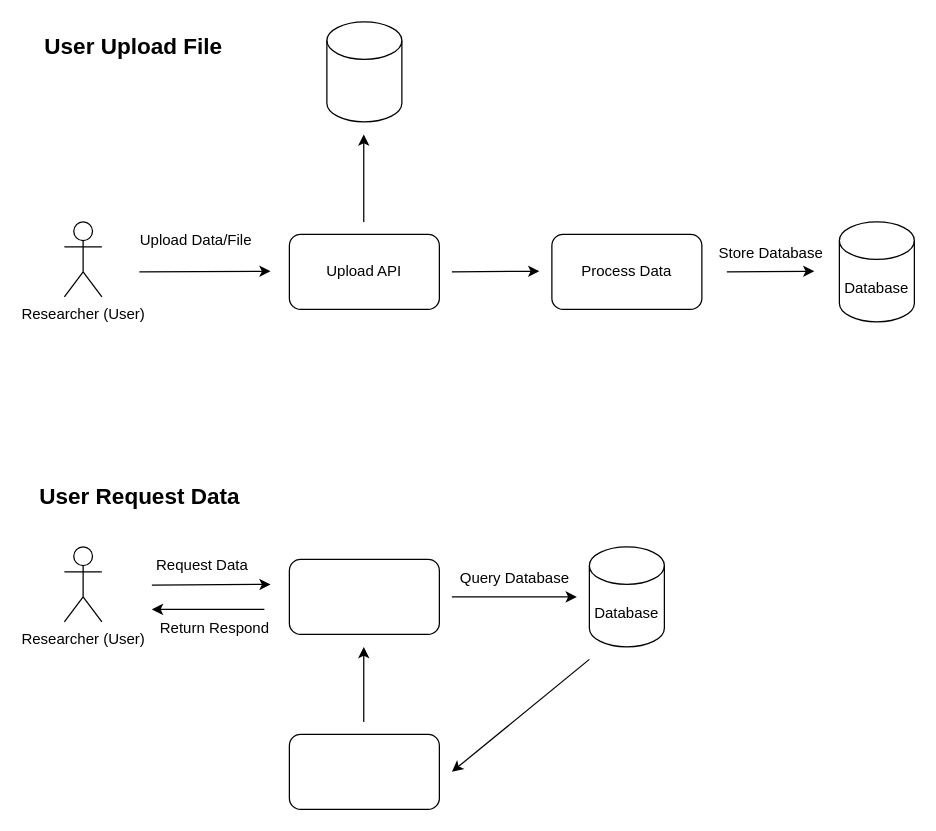
Some shapes in this 936 by 831 pixel diagram are drawn without their labels. The shapes that lost their labels are listed below. From the top down, each one's centre as x and y in pixels, then its label:
point 364,71: File Storage
point 363,596: GetDataAPI
point 363,771: Process Data and format to FHIR standard
